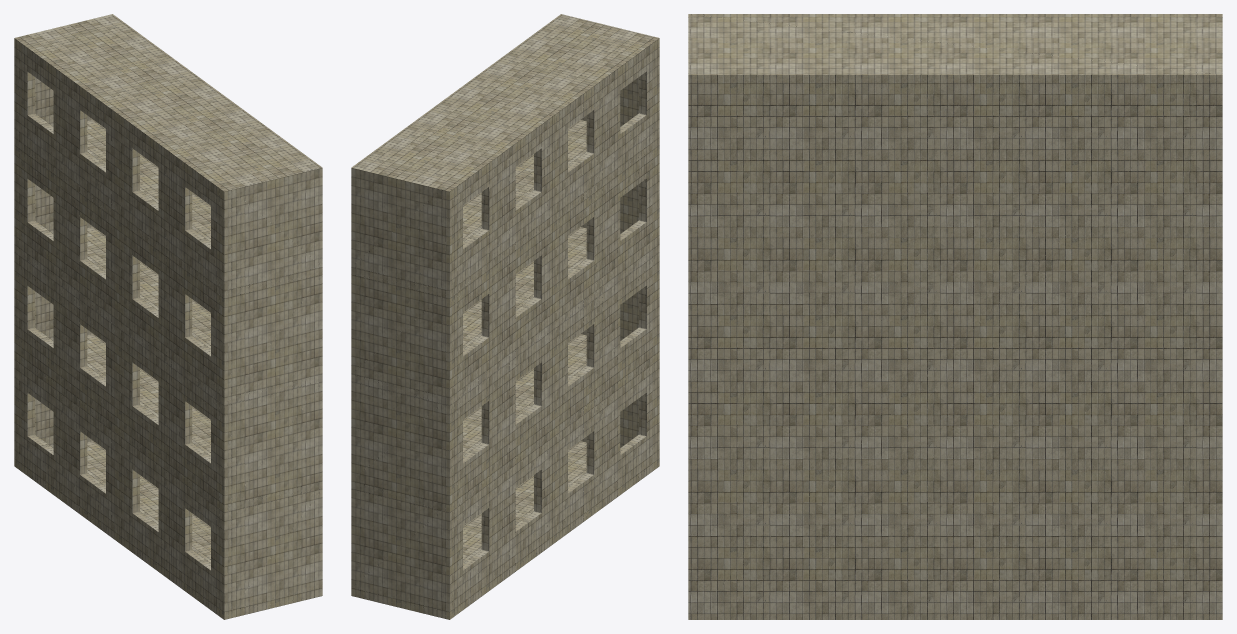
File: civ_mid_a.FBX
3 renders of one model, left to right at view 1: azimuth 30°, elevation 25°; view 2: azimuth 150°, elevation 25°; view 3: azimuth 270°, elevation 25°, orthographic. The views are drawn at different scales.
Visible parts, largest first — view 1: civ_mid_a; view 2: civ_mid_a; view 3: civ_mid_a.
Part boxes in pixels (bbox=[...]): civ_mid_a: bbox=[14, 14, 322, 619]; civ_mid_a: bbox=[351, 14, 659, 619]; civ_mid_a: bbox=[688, 14, 1222, 619].
Size of the model in its own units: 325 by 1350 by 1200.
